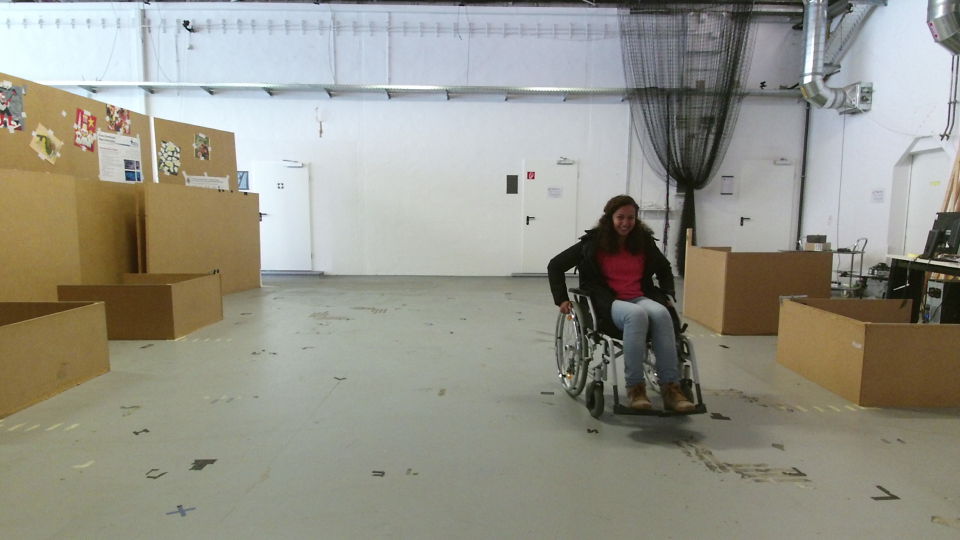wheelchair: (544, 191, 709, 424)
